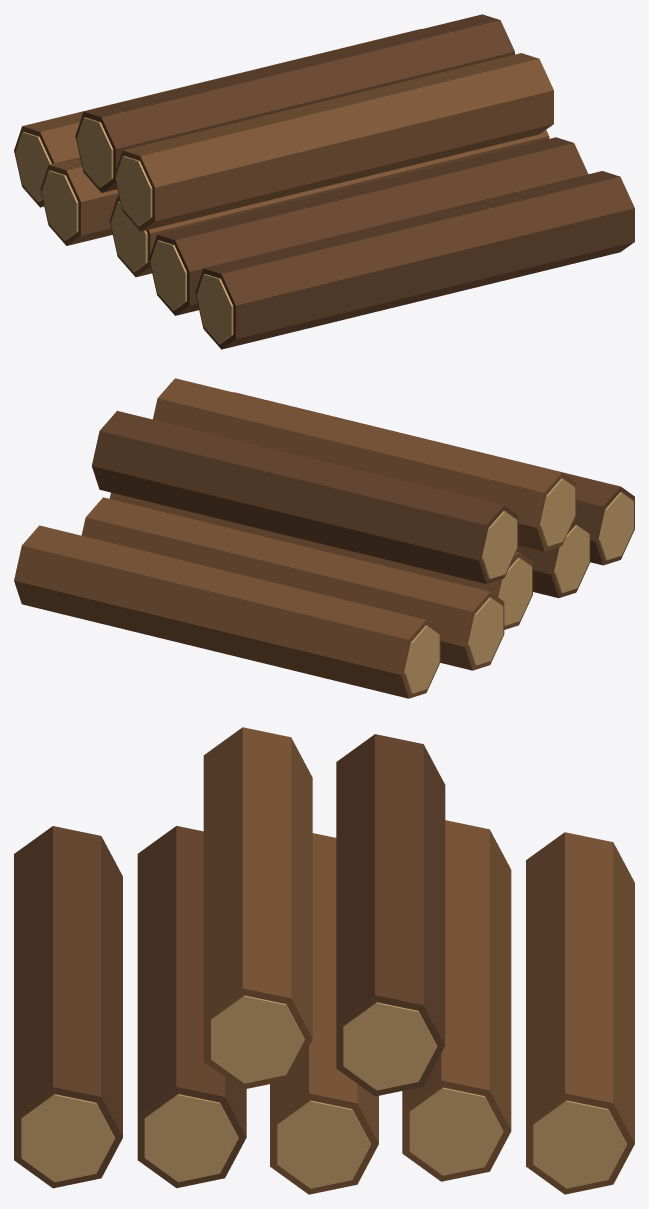
Rendered from pile_logs_2.glb.
3 renders of one model, top to bottom at view 1: azimuth 30°, elevation 25°; view 2: azimuth 150°, elevation 25°; view 3: azimuth 270°, elevation 25°, orthographic. The views are drawn at different scales.
Visible parts, largest first — view 1: pile_logs_2; view 2: pile_logs_2; view 3: pile_logs_2.
Part boxes in pixels (x1,y1,x2,y2): pile_logs_2: [14, 14, 634, 349]; pile_logs_2: [14, 378, 634, 698]; pile_logs_2: [14, 727, 634, 1194].
Size of the model in its own units: 1.48 by 0.4835 by 1.41.
